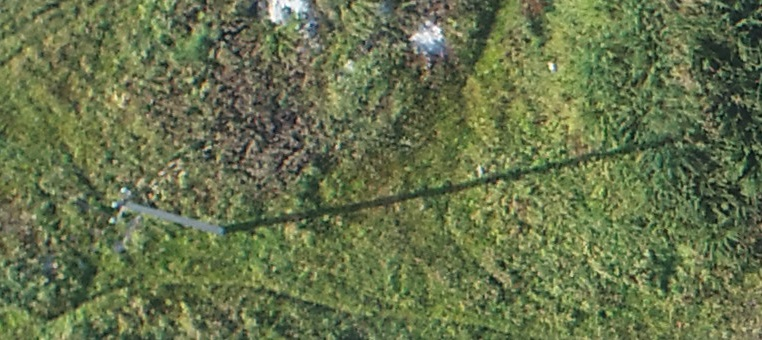opora: (105, 184, 321, 237)
